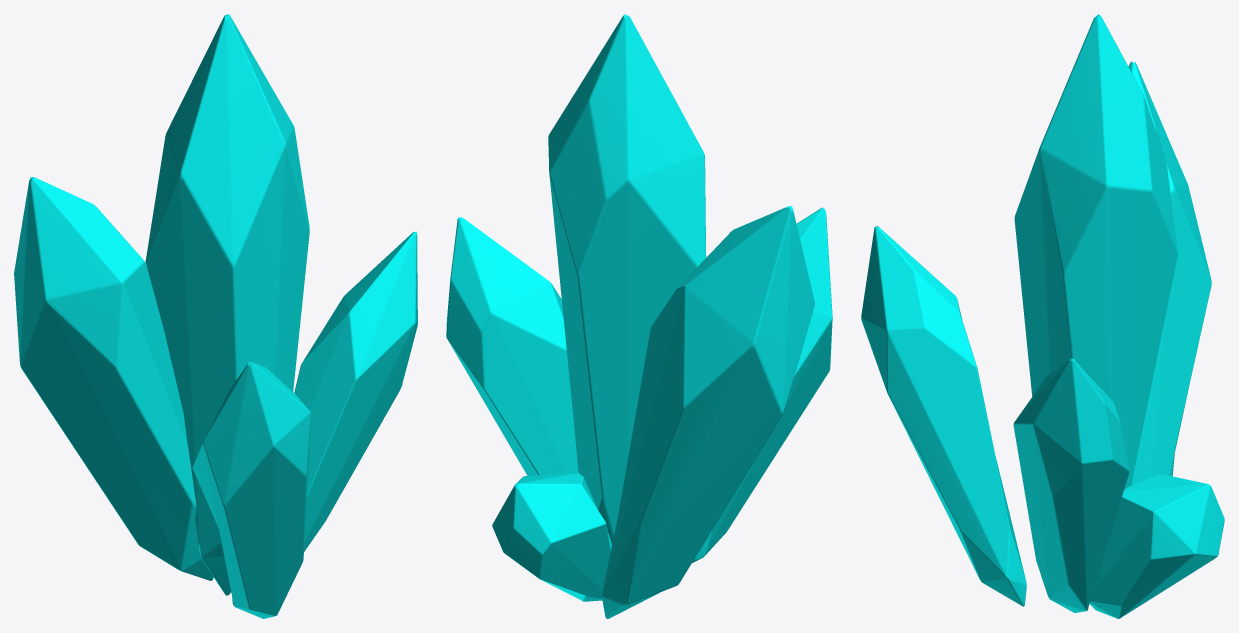
Rendered from crystalgp.fbx.
The picture shows the model from 3 angles, left to right: view 1: azimuth 30°, elevation 25°; view 2: azimuth 150°, elevation 25°; view 3: azimuth 270°, elevation 25°; orthographic projection. The views are drawn at different scales.
Visible parts, largest first — view 1: pCube1, pCube2, pCube3, pCube5; view 2: pCube1, pCube2, pCube5, pCube4, pCube3; view 3: pCube1, pCube3, pCube5, pCube4, pCube2.
Boxes of the visible parts, bbox=[...] form: pCube1: bbox=[145, 14, 309, 595]; pCube2: bbox=[14, 177, 213, 580]; pCube3: bbox=[192, 361, 310, 618]; pCube5: bbox=[294, 231, 417, 551]; pCube1: bbox=[548, 14, 706, 544]; pCube2: bbox=[602, 206, 814, 618]; pCube5: bbox=[446, 217, 578, 475]; pCube4: bbox=[492, 472, 611, 601]; pCube3: bbox=[692, 207, 832, 562]; pCube1: bbox=[1014, 14, 1177, 489]; pCube3: bbox=[861, 226, 1026, 606]; pCube5: bbox=[1013, 358, 1129, 612]; pCube4: bbox=[1089, 474, 1224, 618]; pCube2: bbox=[1128, 61, 1211, 484].
Size of the model in its own units: 2.63 by 3.99 by 2.21.
